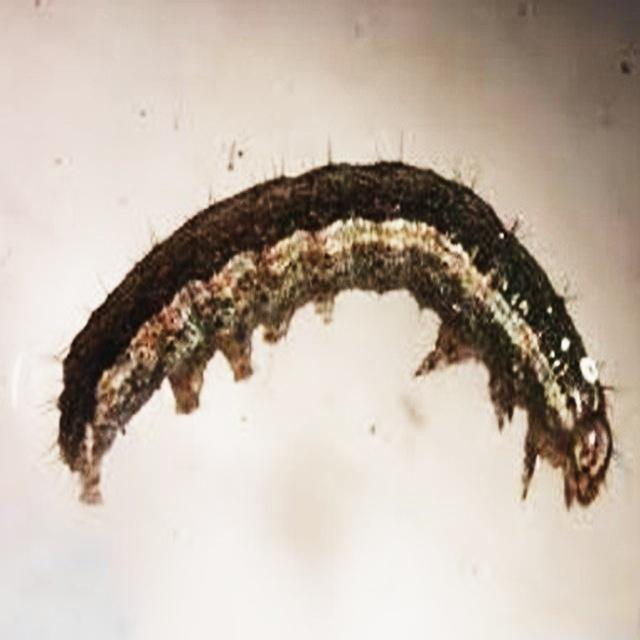gusano_cogollero: (53, 153, 616, 508)
